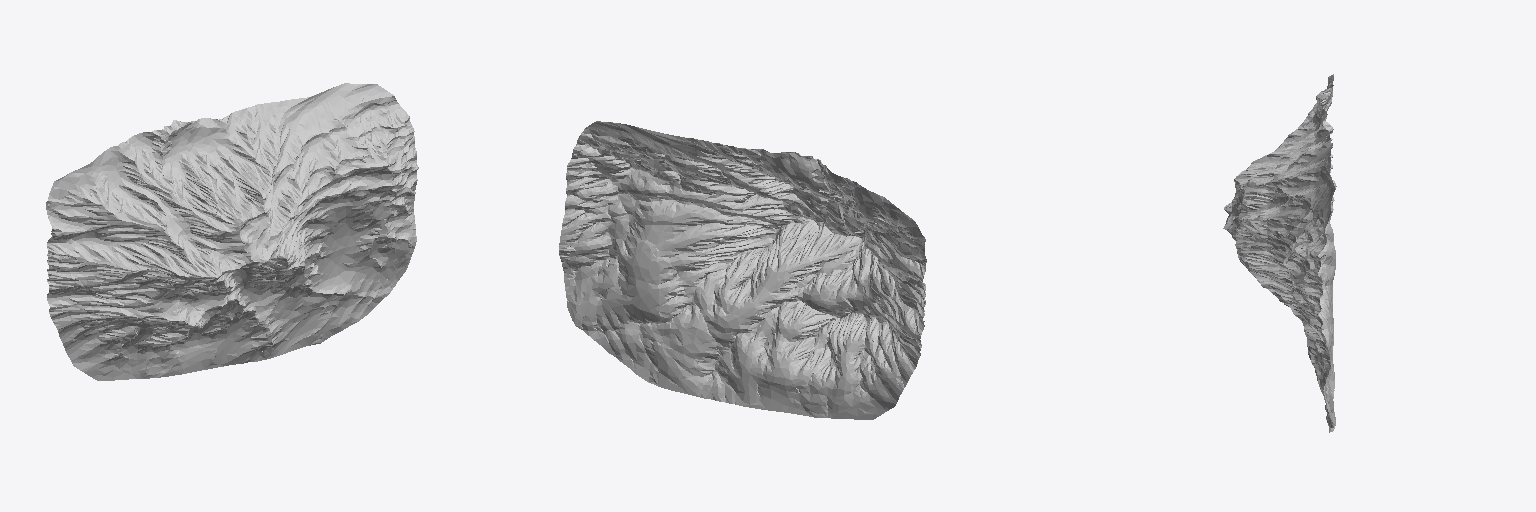
The model's file is mountain.obj.
3 renders of one model, left to right at view 1: azimuth 30°, elevation 25°; view 2: azimuth 150°, elevation 25°; view 3: azimuth 270°, elevation 25°, orthographic.
Parts seen in each view (by area): view 1: Mountain01_heightmap.007; view 2: Mountain01_heightmap.007; view 3: Mountain01_heightmap.007.
Boxes of the visible parts, box(x1,y1,x2,y2) form: Mountain01_heightmap.007: box(46, 83, 418, 380); Mountain01_heightmap.007: box(559, 121, 926, 419); Mountain01_heightmap.007: box(1223, 74, 1336, 432).
Bounding box in the file's own units: 1409 × 968 × 375.